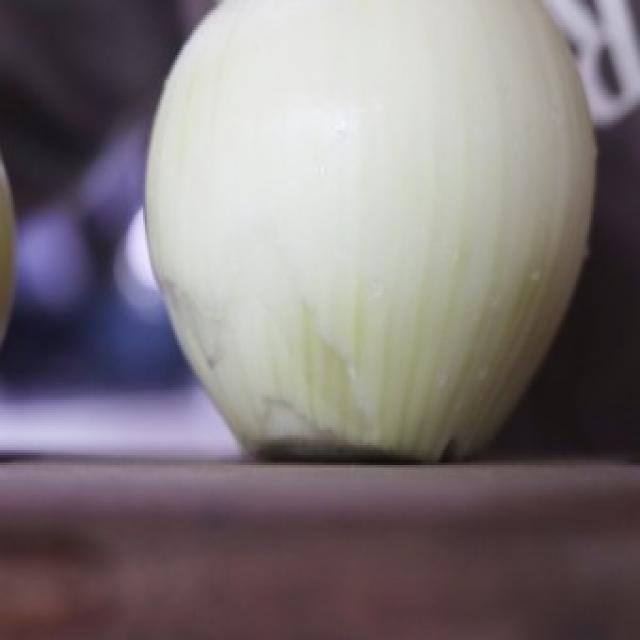onion: (137, 0, 610, 488)
